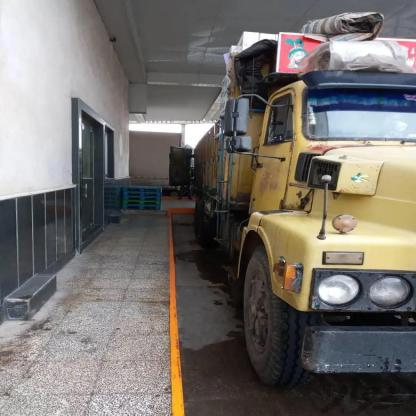Truck: (179, 36, 416, 378)
